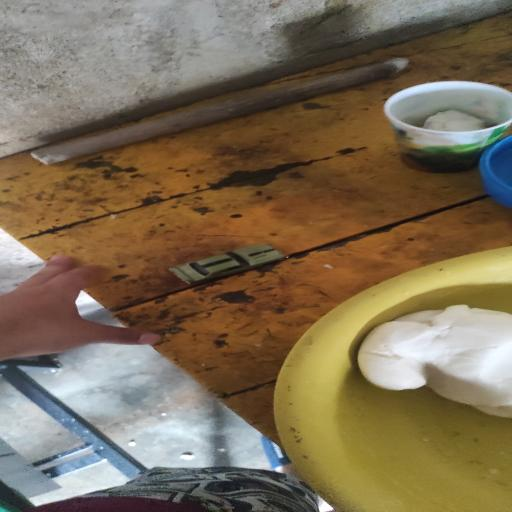Carrito: (170, 243, 284, 284)
